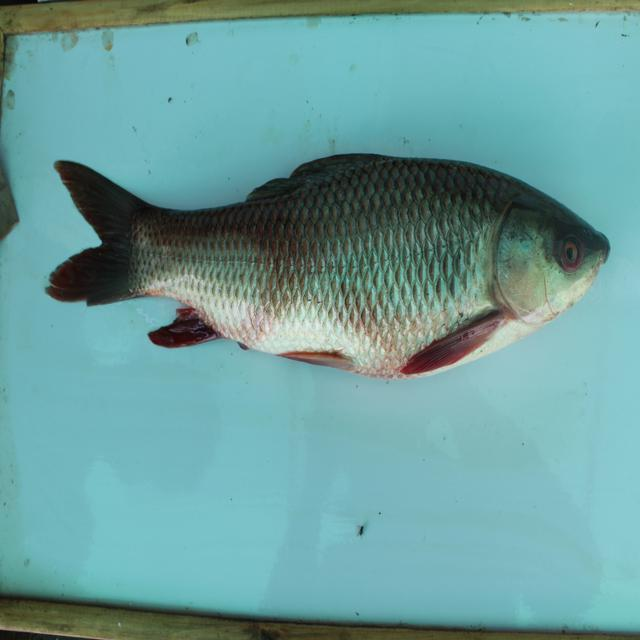Rohu: (37, 151, 609, 393)
